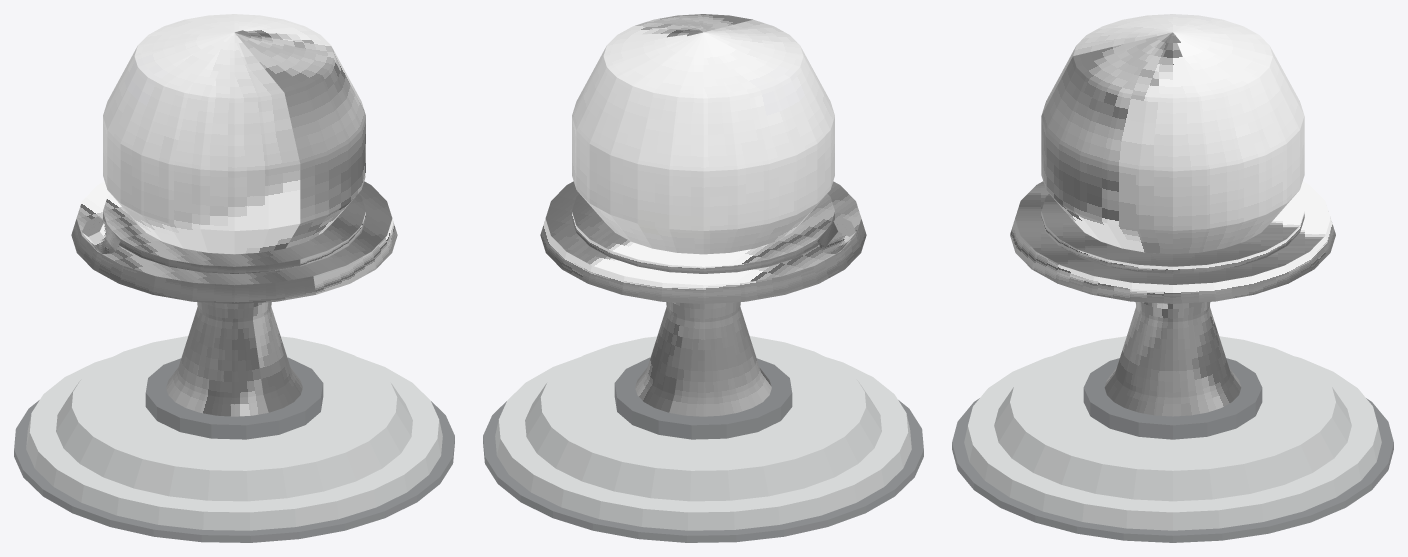
File: Building_SculptureLarge__B.glb
3 renders of one model, left to right at view 1: azimuth 30°, elevation 25°; view 2: azimuth 150°, elevation 25°; view 3: azimuth 270°, elevation 25°, orthographic.
Parts seen in each view (by area): view 1: SculptureLarge__B; view 2: SculptureLarge__B; view 3: SculptureLarge__B.
Boxes of the visible parts, left/top/right/bottom form: SculptureLarge__B: left=14, top=14, right=454, bottom=542; SculptureLarge__B: left=483, top=14, right=923, bottom=542; SculptureLarge__B: left=952, top=14, right=1393, bottom=542.
Bounding box in the file's own units: 1.68 × 1.75 × 1.68.
Materials: 1 (1 with a texture image).
